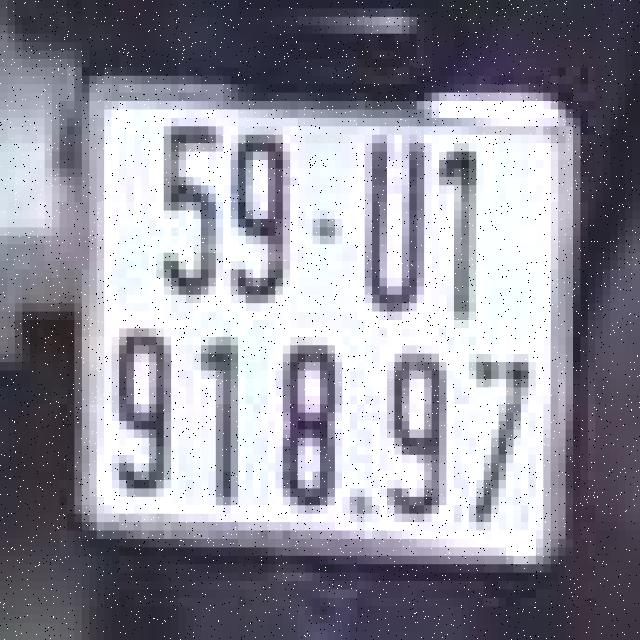1: (439, 135, 499, 328), (197, 328, 257, 514)
5: (149, 110, 223, 303)
7: (458, 345, 540, 539)
8: (268, 329, 335, 522)
9: (223, 122, 305, 307), (104, 324, 179, 510), (387, 341, 439, 526)
U: (357, 131, 432, 324)
